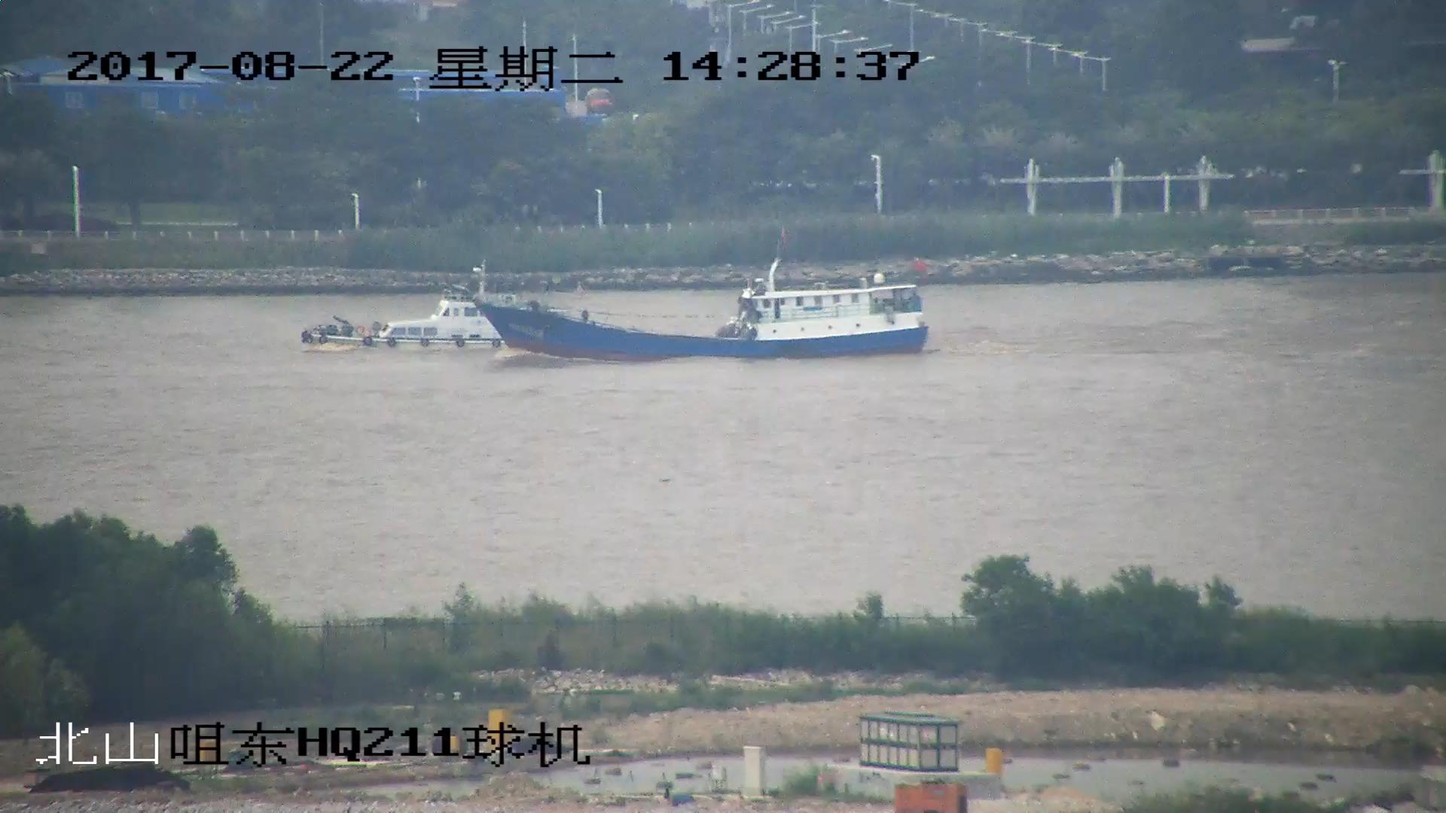fishing boat: (483, 239, 928, 362)
passenger ship: (297, 280, 521, 352)
